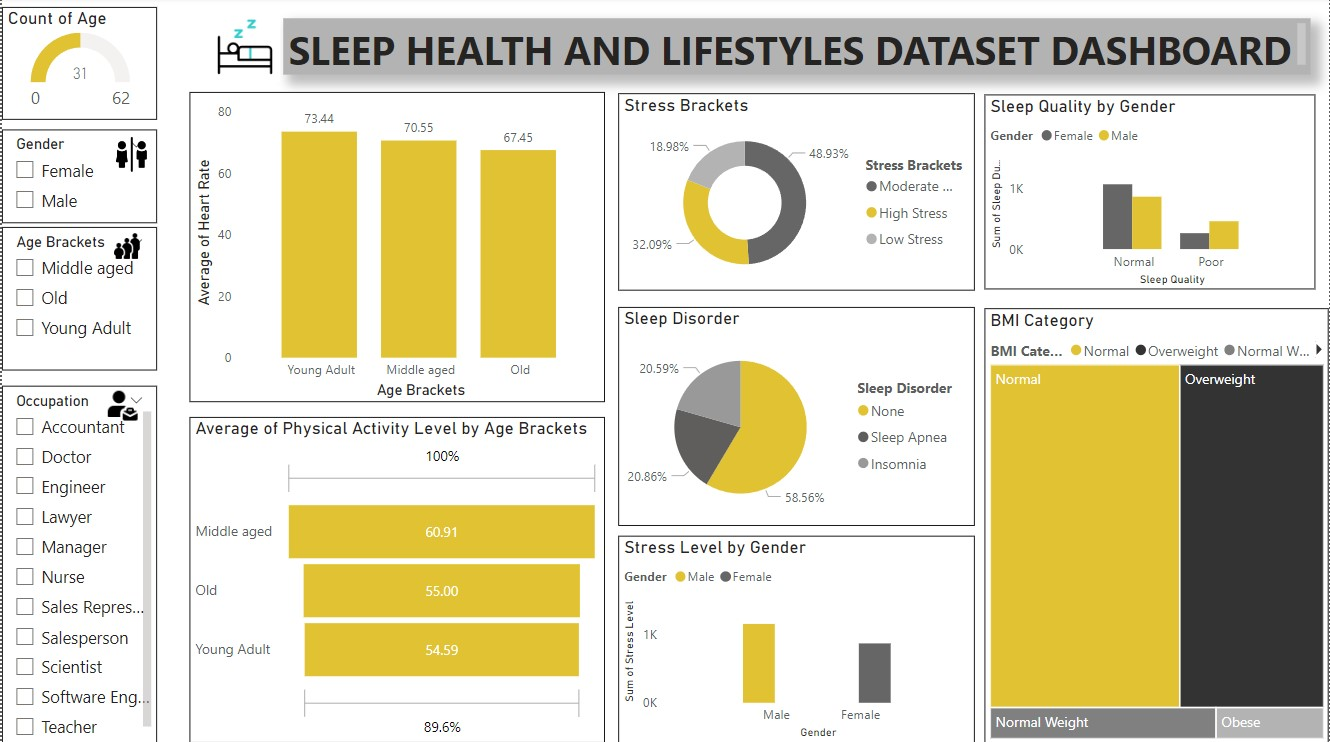

Layout of this report page (visuals, bound fields, positions):
{"tool":"powerbi","page":{"name":"Page 1","canvas":[1280,720],"ordinal":0},"visuals":[{"type":"textbox","box":[117.4,20.9,1145.4,53.5],"z":0},{"type":"image","box":[10.5,9.3,107,77.9],"z":1000},{"type":"clusteredColumnChart","title":" Stress Level by Gender","fields":{"Category":["Sleep_health_and_lifestyle_dataset.Gender"],"Y":["Avg(Sleep_health_and_lifestyle_dataset.Stress Level)"],"Series":["Sleep_health_and_lifestyle_dataset.Gender"]},"box":[511.6,93,345.3,184.9],"z":2000},{"type":"donutChart","title":"Stress Brackets","fields":{"Category":["Sleep_health_and_lifestyle_dataset.Stress Brackets"],"Y":["CountNonNull(Sleep_health_and_lifestyle_dataset.Stress Brackets)"]},"box":[168.6,194.2,334.9,262.8],"z":3000},{"type":"clusteredColumnChart","title":"Sleep Quality by Gender","fields":{"Category":["Sleep_health_and_lifestyle_dataset.Sleep Quality"],"Y":["Sum(Sleep_health_and_lifestyle_dataset.Sleep Duration)"],"Series":["Sleep_health_and_lifestyle_dataset.Gender"]},"box":[511.6,287.2,345.3,207],"z":4000},{"type":"slicer","fields":{"Values":["Sleep_health_and_lifestyle_dataset.Age Brackets"]},"box":[8.1,222.1,150,138.4],"z":5000},{"type":"slicer","fields":{"Values":["Sleep_health_and_lifestyle_dataset.Occupation"]},"box":[7,370.9,150,348.8],"z":6000},{"type":"pieChart","title":"Sleep Disorder","fields":{"Category":["Sleep_health_and_lifestyle_dataset.Sleep Disorder"],"Y":["CountNonNull(Sleep_health_and_lifestyle_dataset.Sleep Disorder)"]},"box":[168.6,465.1,334.9,254.7],"z":7000},{"type":"clusteredColumnChart","fields":{"Y":["Avg(Sleep_health_and_lifestyle_dataset.Heart Rate)"],"Category":["Sleep_health_and_lifestyle_dataset.Age Brackets"]},"box":[511.6,503.5,345.3,216.3],"z":8000},{"type":"treemap","title":"BMI Category ","fields":{"Group":["Sleep_health_and_lifestyle_dataset.BMI Category"],"Values":["CountNonNull(Sleep_health_and_lifestyle_dataset.BMI Category)"]},"box":[865.1,194.2,403.5,300],"z":9000},{"type":"slicer","fields":{"Values":["Sleep_health_and_lifestyle_dataset.Gender"]},"box":[8.1,122.1,150,90.7],"z":10000},{"type":"image","box":[108.1,124.4,50,43],"z":11000},{"type":"image","box":[117.4,222.1,40.7,34.9],"z":12000},{"type":"image","box":[112.8,370.9,48.8,38.4],"z":13000},{"type":"cardVisual","title":"Avg  sleep duration (in hours)","fields":{"Data":["DAX.average_sleep_duration"]},"box":[867.4,89.5,202.3,95.3],"z":14000},{"type":"cardVisual","title":"Sleep disorder percentage","fields":{"Data":["DAX.percentage_of_sleep_disorder"]},"box":[1077.9,88.4,188.4,96.5],"z":15000},{"type":"cardVisual","title":"Male","fields":{"Data":["DAX.male_count"]},"box":[275.7,90.7,119.8,101.2],"z":16000},{"type":"cardVisual","title":"Female","fields":{"Data":["DAX.female_count"]},"box":[390.7,90.7,118.6,101.2],"z":17000},{"type":"cardVisual","title":"Total population","fields":{"Data":["DAX.total_population"]},"box":[162.5,90.7,118,100.2],"z":18000},{"type":"clusteredBarChart","fields":{"Category":["Sleep_health_and_lifestyle_dataset.Physical Acitivity quality"],"Y":["Avg(Sleep_health_and_lifestyle_dataset.Sleep Duration)"],"Series":["Sleep_health_and_lifestyle_dataset.Gender"]},"box":[866.3,503.5,403.5,216.3],"z":19000}]}

Visuals, with their boxes in screenshot pixels (x1, y1, x2, y2), scaled from the page's 1280x720 canvas onto the 1330x742 screenshot:
textbox: rect(122, 22, 1312, 77)
image: rect(11, 10, 122, 90)
" Stress Level by Gender" clusteredColumnChart: rect(532, 96, 890, 286)
"Stress Brackets" donutChart: rect(175, 200, 523, 471)
"Sleep Quality by Gender" clusteredColumnChart: rect(532, 296, 890, 509)
slicer - Sleep_health_and_lifestyle_dataset.Age Brackets: rect(8, 229, 164, 372)
slicer - Sleep_health_and_lifestyle_dataset.Occupation: rect(7, 382, 163, 741)
"Sleep Disorder" pieChart: rect(175, 479, 523, 741)
clusteredColumnChart - Avg(Sleep_health_and_lifestyle_dataset.Heart Rate) x Sleep_health_and_lifestyle_dataset.Age Brackets: rect(532, 519, 890, 741)
"BMI Category " treemap: rect(899, 200, 1318, 509)
slicer - Sleep_health_and_lifestyle_dataset.Gender: rect(8, 126, 164, 219)
image: rect(112, 128, 164, 173)
image: rect(122, 229, 164, 265)
image: rect(117, 382, 168, 422)
"Avg  sleep duration (in hours)" cardVisual: rect(901, 92, 1111, 190)
"Sleep disorder percentage" cardVisual: rect(1120, 91, 1316, 191)
"Male" cardVisual: rect(286, 93, 411, 198)
"Female" cardVisual: rect(406, 93, 529, 198)
"Total population" cardVisual: rect(169, 93, 291, 197)
clusteredBarChart - Sleep_health_and_lifestyle_dataset.Physical Acitivity quality x Avg(Sleep_health_and_lifestyle_dataset.Sleep Duration): rect(900, 519, 1319, 741)
